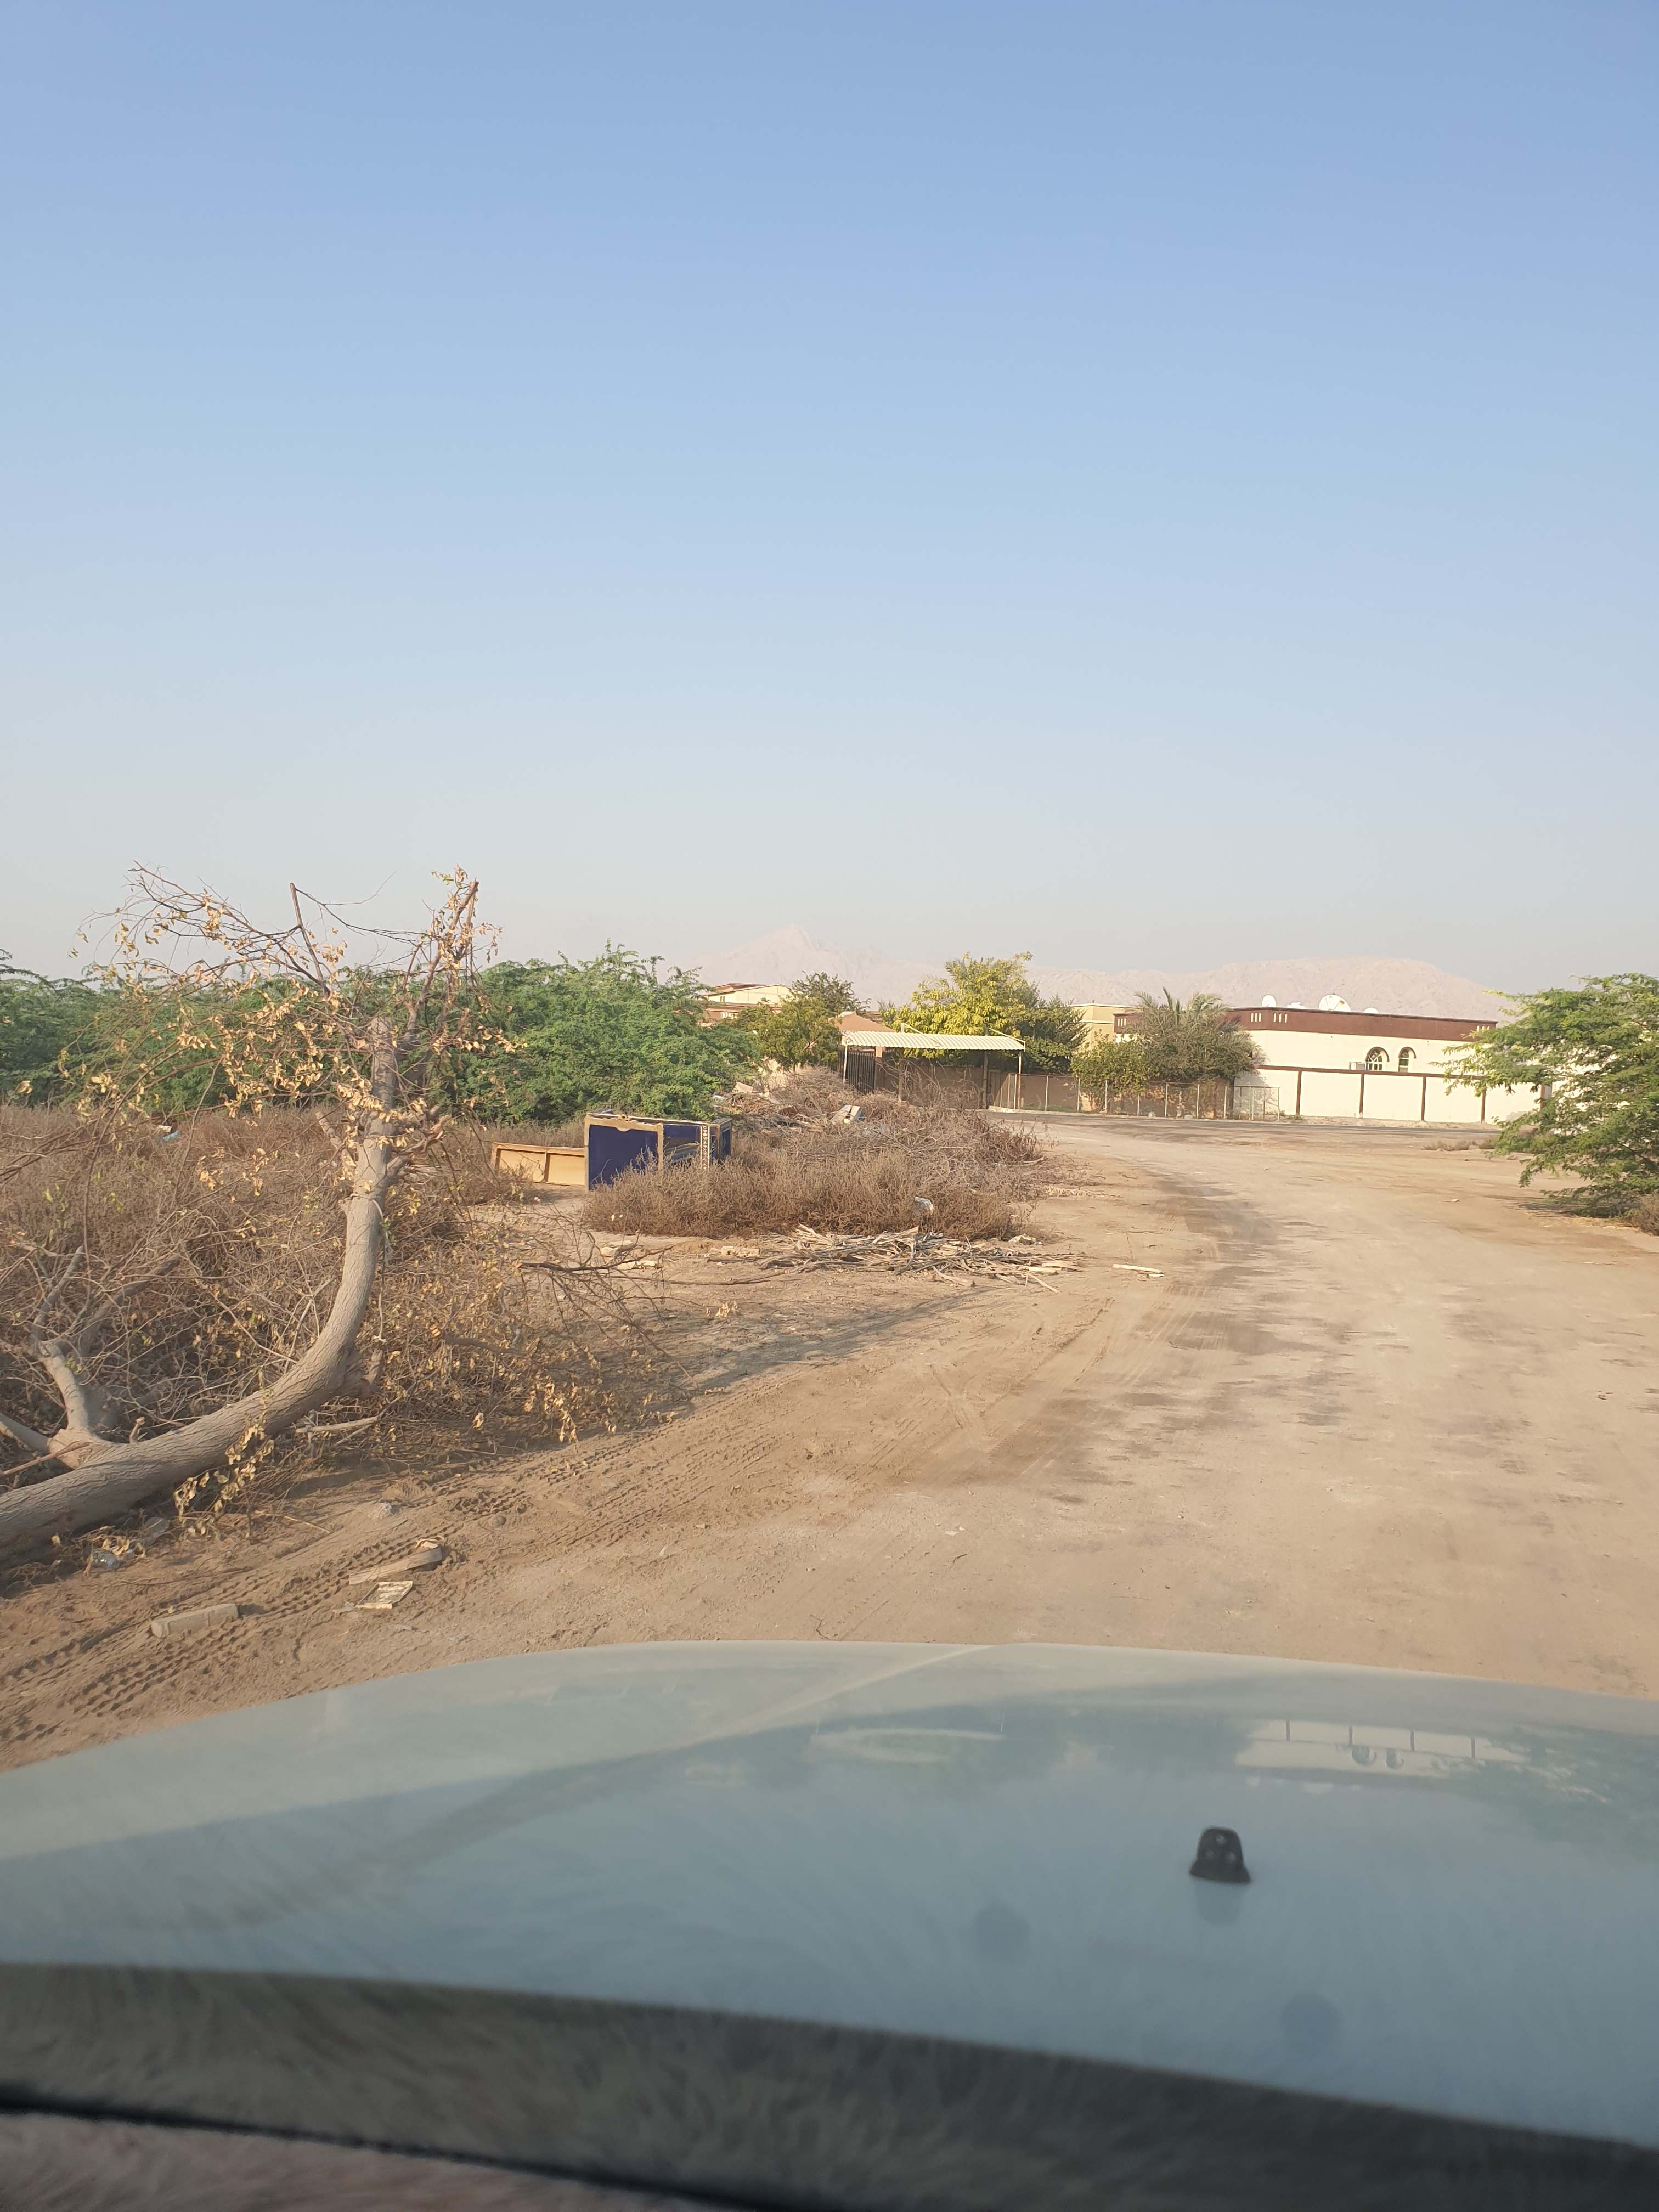fallen_trees: (758, 1223, 1183, 1313), (714, 1221, 1039, 1298), (575, 1104, 767, 1200), (927, 1244, 1112, 1301), (721, 1240, 884, 1291), (847, 1238, 995, 1287)
